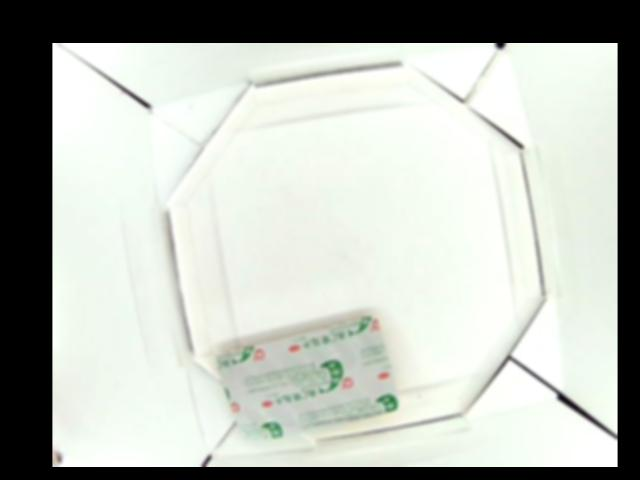Medicine: (217, 315, 402, 440)
